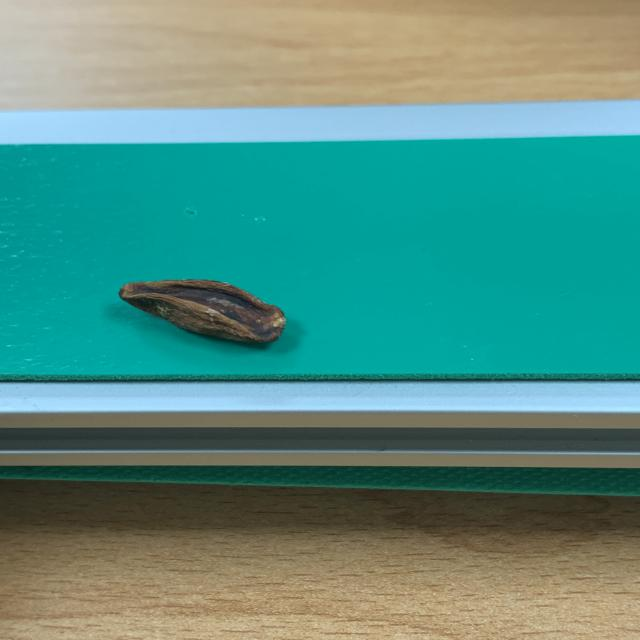Flat_cocoabeans: (84, 242, 332, 372)
